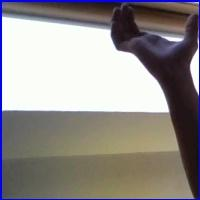space: (102, 4, 199, 76)
